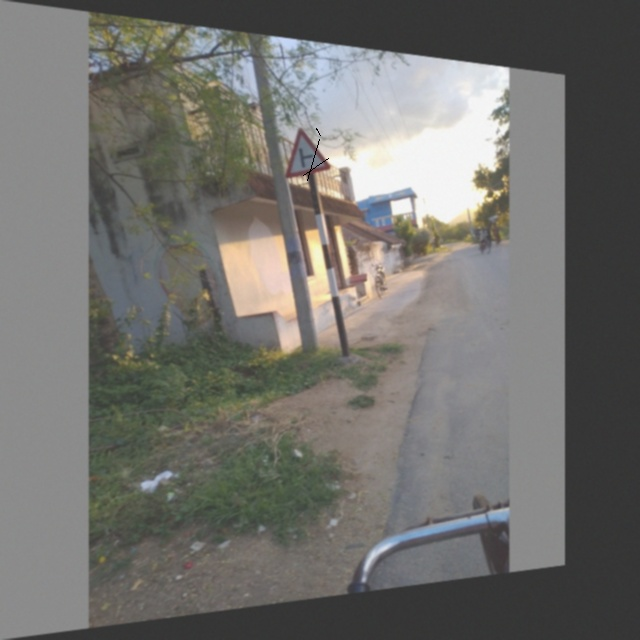Side_Road_Right: (280, 122, 335, 183)
